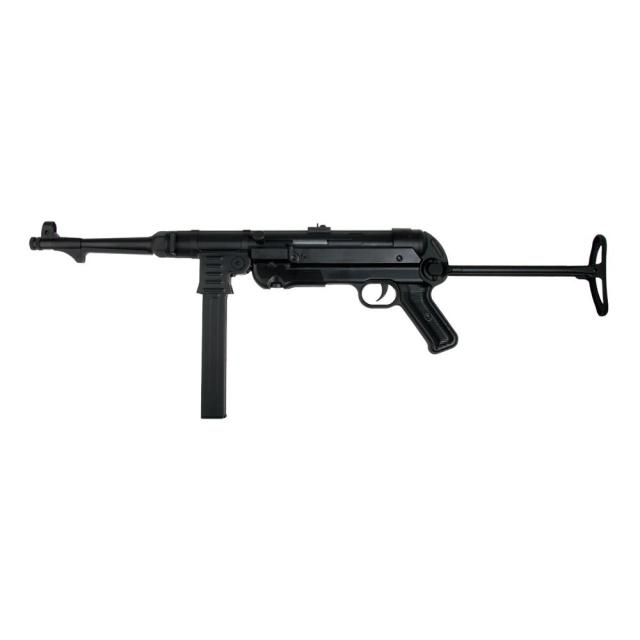SMG: (28, 221, 609, 420)
